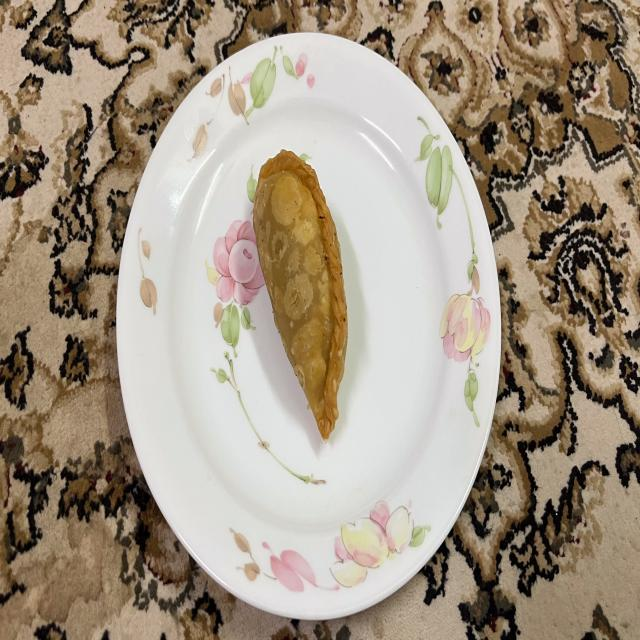karipap: (254, 151, 348, 440)
